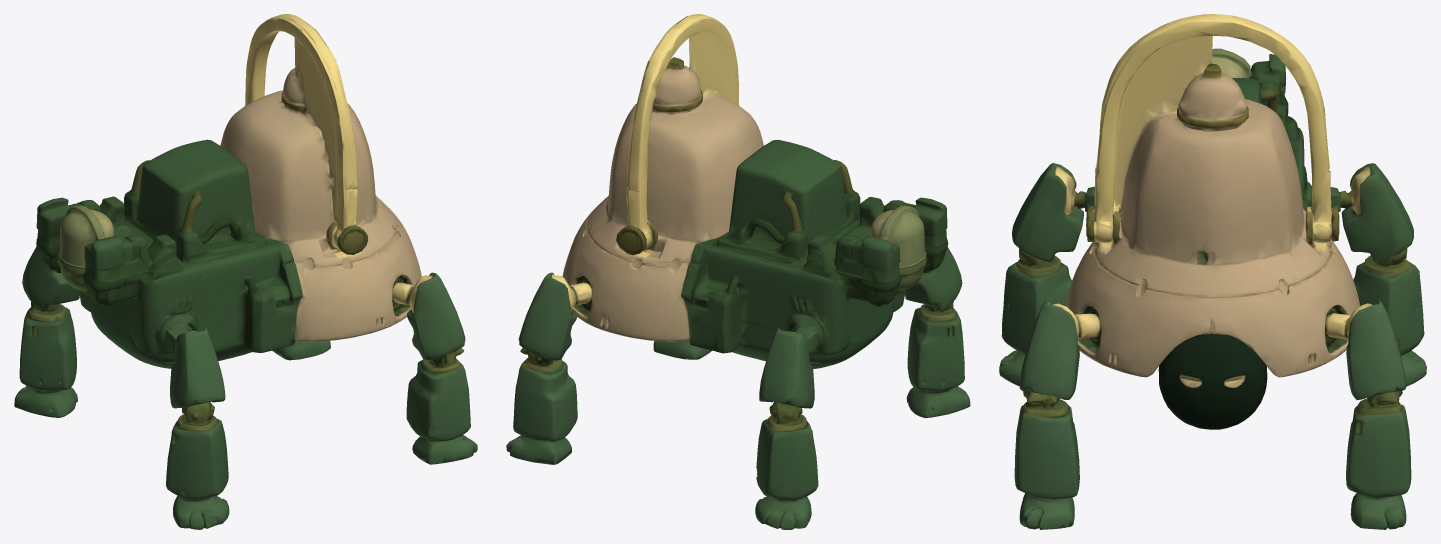
The picture shows the model from 3 angles, left to right: view 1: azimuth 30°, elevation 25°; view 2: azimuth 150°, elevation 25°; view 3: azimuth 270°, elevation 25°; orthographic projection. The views are drawn at different scales.
Parts seen in each view (by area): view 1: tripo_node_63c37cb8-1f93-478f-8fc3-00e9d53434b6; view 2: tripo_node_63c37cb8-1f93-478f-8fc3-00e9d53434b6; view 3: tripo_node_63c37cb8-1f93-478f-8fc3-00e9d53434b6.
Boxes of the visible parts, box(x1,y1,x2,y2) form: tripo_node_63c37cb8-1f93-478f-8fc3-00e9d53434b6: box(14, 14, 477, 529); tripo_node_63c37cb8-1f93-478f-8fc3-00e9d53434b6: box(506, 14, 970, 529); tripo_node_63c37cb8-1f93-478f-8fc3-00e9d53434b6: box(999, 14, 1426, 529).
Bounding box in the file's own units: 0.8867 × 1 × 0.8441.
1 material, 1 textured.
